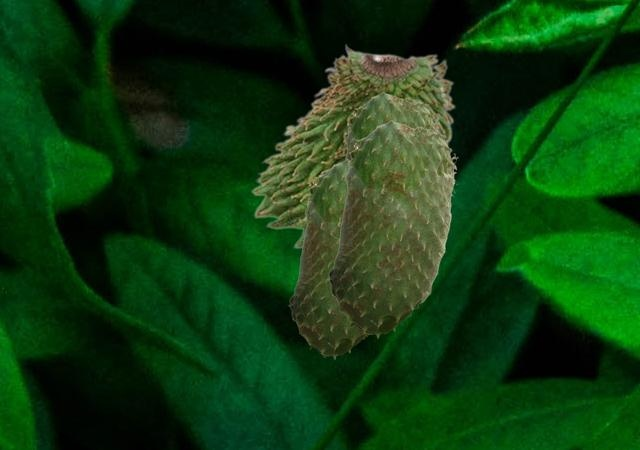guyabano: (250, 43, 455, 248), (327, 119, 457, 337), (288, 158, 365, 358), (345, 91, 438, 159)
